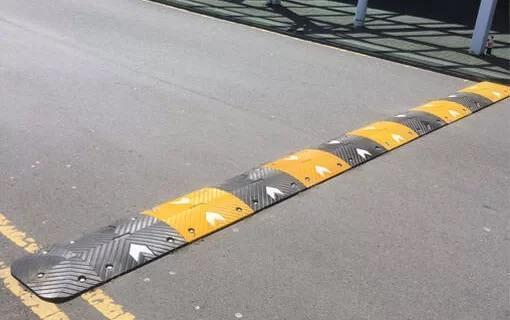speedbreaker: (10, 78, 510, 302)
